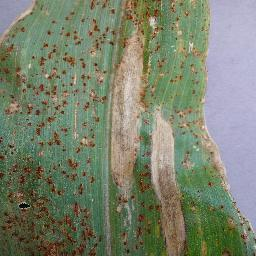Corn_Blight: (0, 2, 110, 256), (191, 105, 256, 255), (109, 0, 147, 252), (146, 104, 191, 255), (146, 0, 210, 103)
